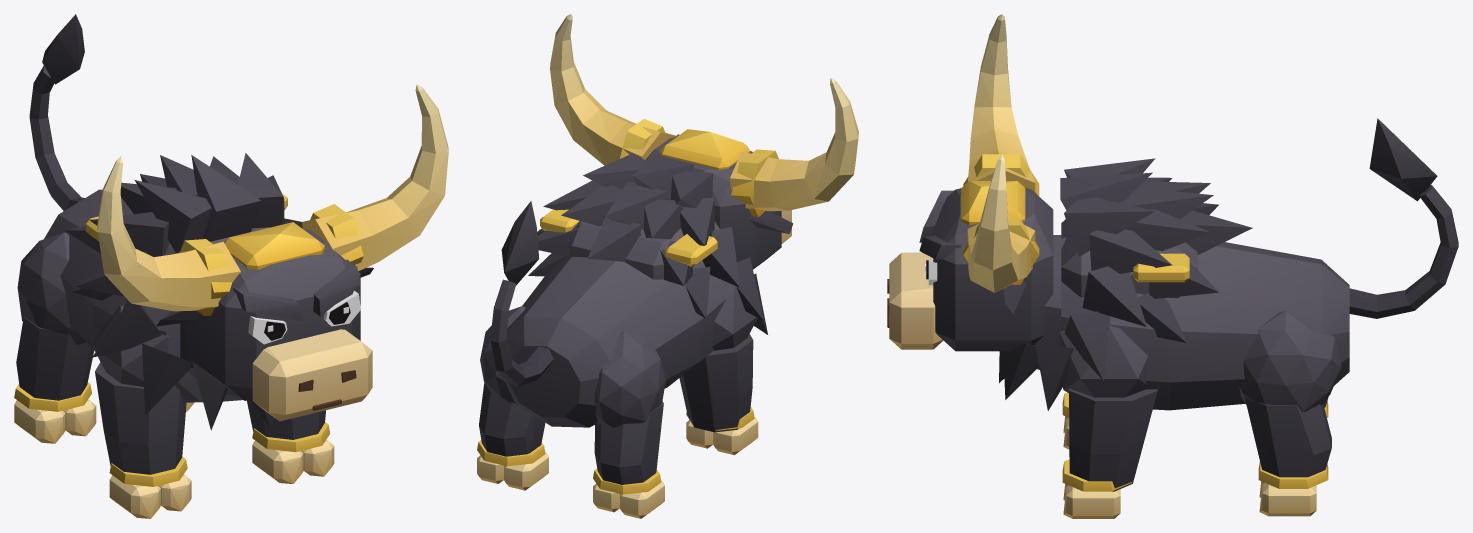
The model's file is GymBull.glb.
3 renders of one model, left to right at view 1: azimuth 30°, elevation 25°; view 2: azimuth 150°, elevation 25°; view 3: azimuth 270°, elevation 25°, orthographic. The views are drawn at different scales.
Parts seen in each view (by area): view 1: gym_bull; view 2: gym_bull; view 3: gym_bull.
Part boxes in pixels (x1,y1,x2,y2): gym_bull: [14, 14, 448, 518]; gym_bull: [477, 14, 858, 518]; gym_bull: [887, 14, 1458, 518].
Size of the model in its own units: 0.9838 by 1.07 by 1.43.
1 material, 1 textured.
